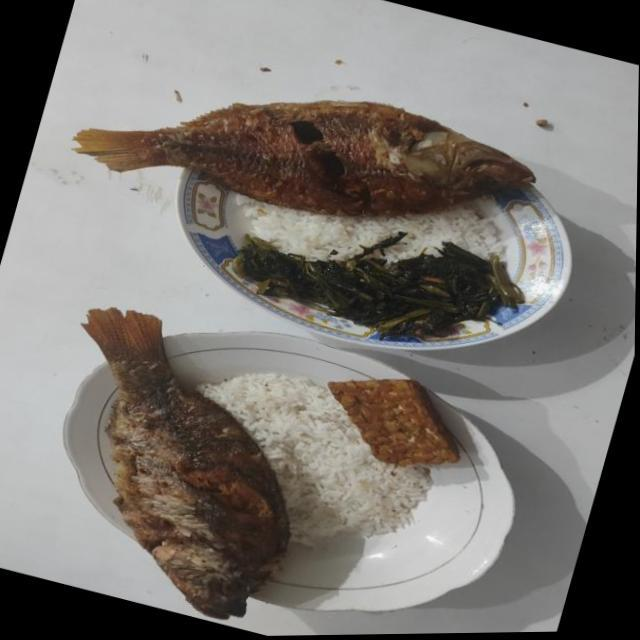ikan_mujair: (83, 307, 290, 618), (73, 100, 534, 216)
nasi_putih: (199, 374, 432, 544), (234, 194, 506, 263)
tempe_goreng: (327, 379, 459, 466)
tumis_kangkung: (232, 232, 524, 342)
